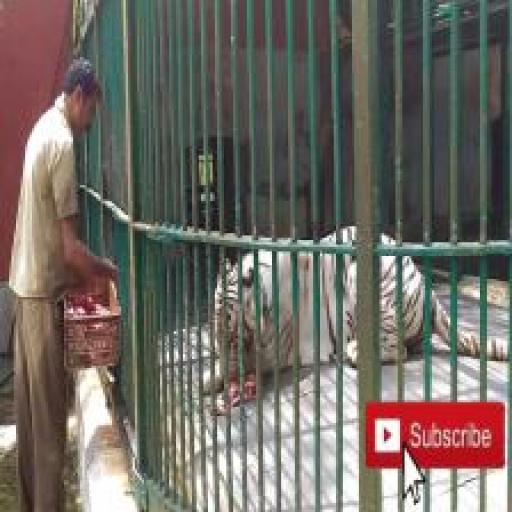Tiger: (201, 222, 510, 392)
